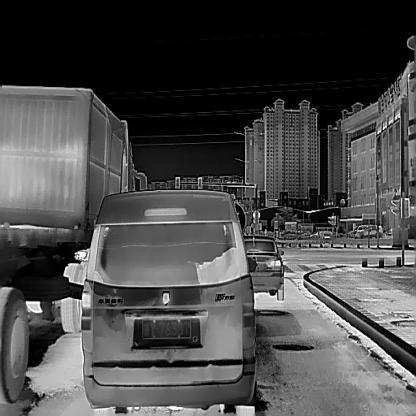car: (0, 84, 147, 403), (80, 188, 256, 415), (243, 235, 284, 300), (358, 226, 383, 238)
